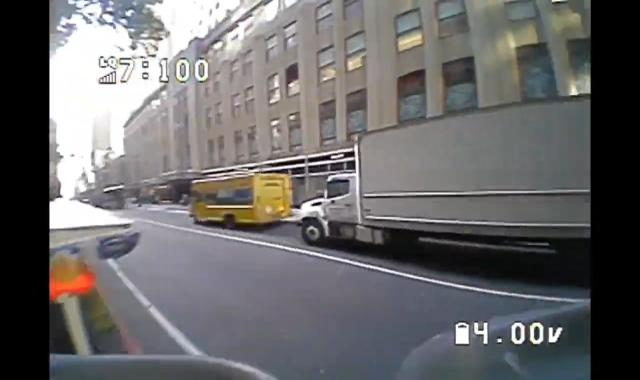car: (177, 160, 299, 234)
truck: (300, 92, 598, 273)
